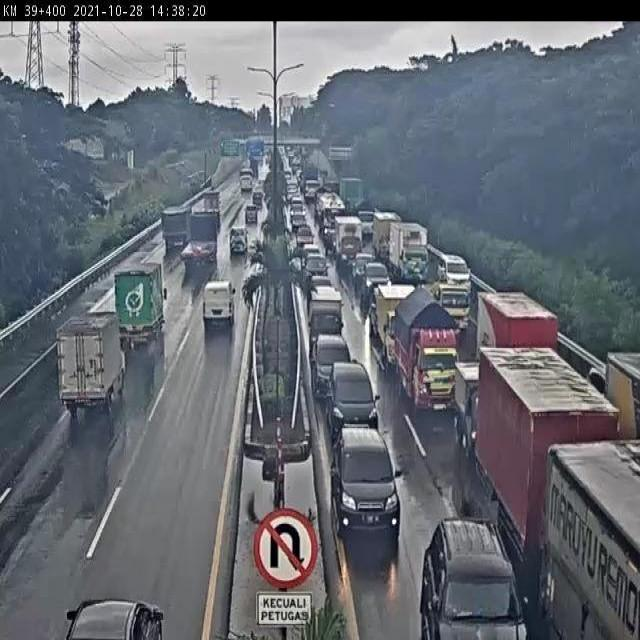big truck: (473, 354, 607, 574), (552, 432, 640, 640), (480, 291, 565, 381), (600, 357, 640, 444), (178, 210, 222, 278), (163, 204, 192, 251)
car: (419, 514, 524, 640), (333, 417, 397, 548), (57, 592, 168, 640), (327, 359, 393, 429), (197, 280, 245, 329), (315, 335, 353, 396), (437, 249, 475, 296), (227, 221, 250, 260), (242, 204, 261, 229)
small truck: (396, 297, 462, 423), (56, 304, 122, 424), (115, 260, 171, 349), (377, 282, 416, 366), (383, 218, 431, 286), (452, 366, 494, 442), (427, 275, 468, 332), (310, 291, 354, 341), (371, 207, 405, 265)
